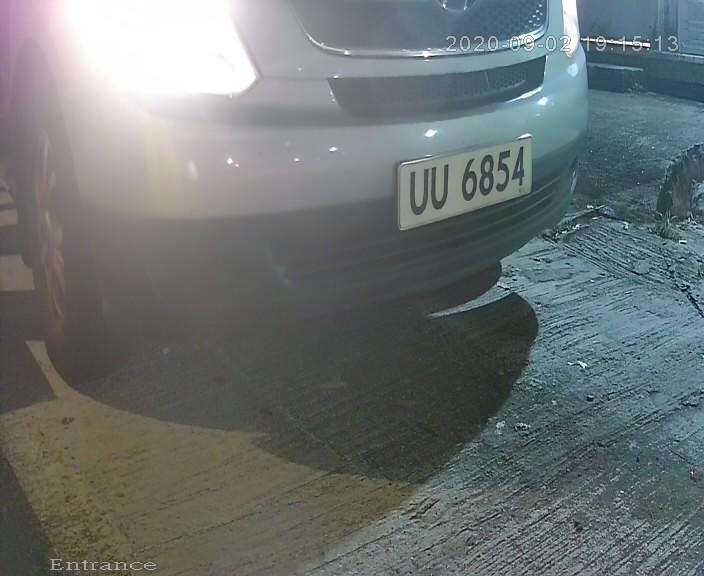License Plate: (384, 127, 541, 237)
